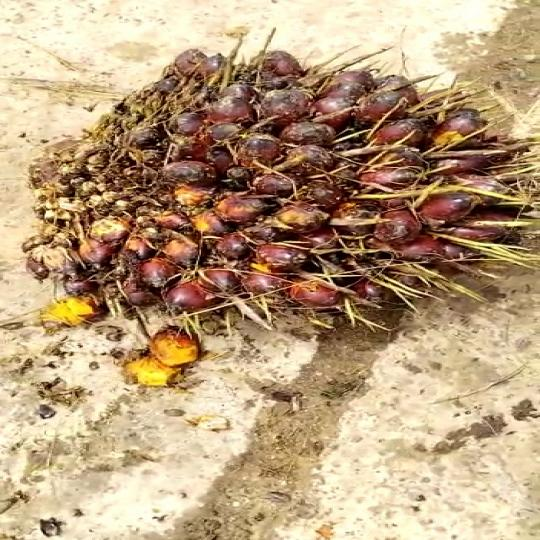kurang masak: (19, 26, 540, 324)
